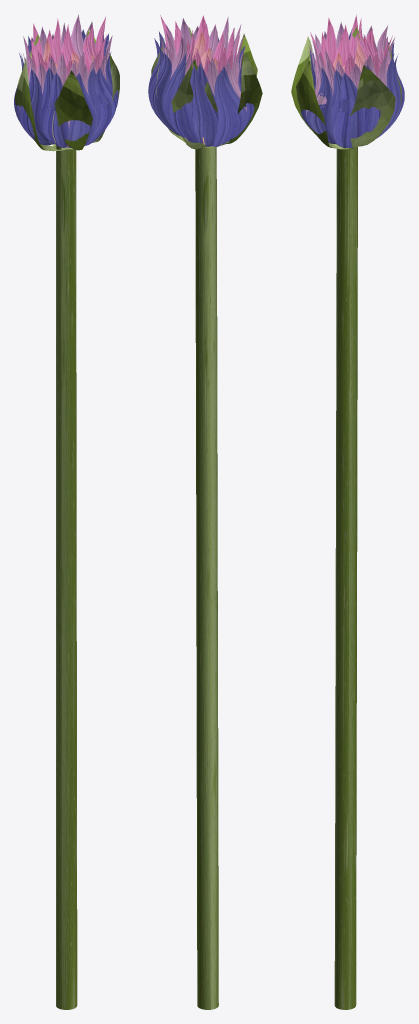
File: flor_01.fbx
3 renders of one model, left to right at view 1: azimuth 30°, elevation 25°; view 2: azimuth 150°, elevation 25°; view 3: azimuth 330°, elevation 25°, orthographic.
Parts seen in each view (by area): view 1: Plane.068; view 2: Plane.068; view 3: Plane.068.
Part boxes in pixels (x1,y1,x2,y2): Plane.068: (14,14,119,1009); Plane.068: (148,15,262,1009); Plane.068: (291,14,404,1009).
Size of the model in its own units: 42.45 by 415 by 39.23.
Materials: 2 (2 with a texture image).
